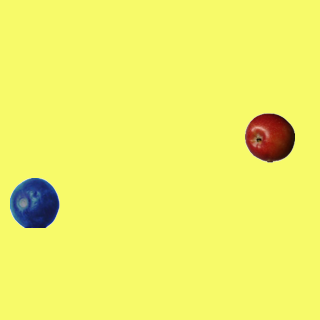Apple Braeburn: (244, 112, 294, 162)
Huckleberry: (9, 177, 59, 227)
